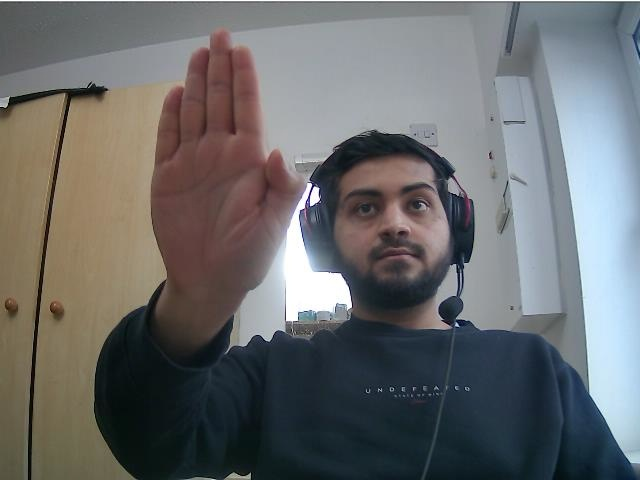up: (148, 28, 306, 292)
